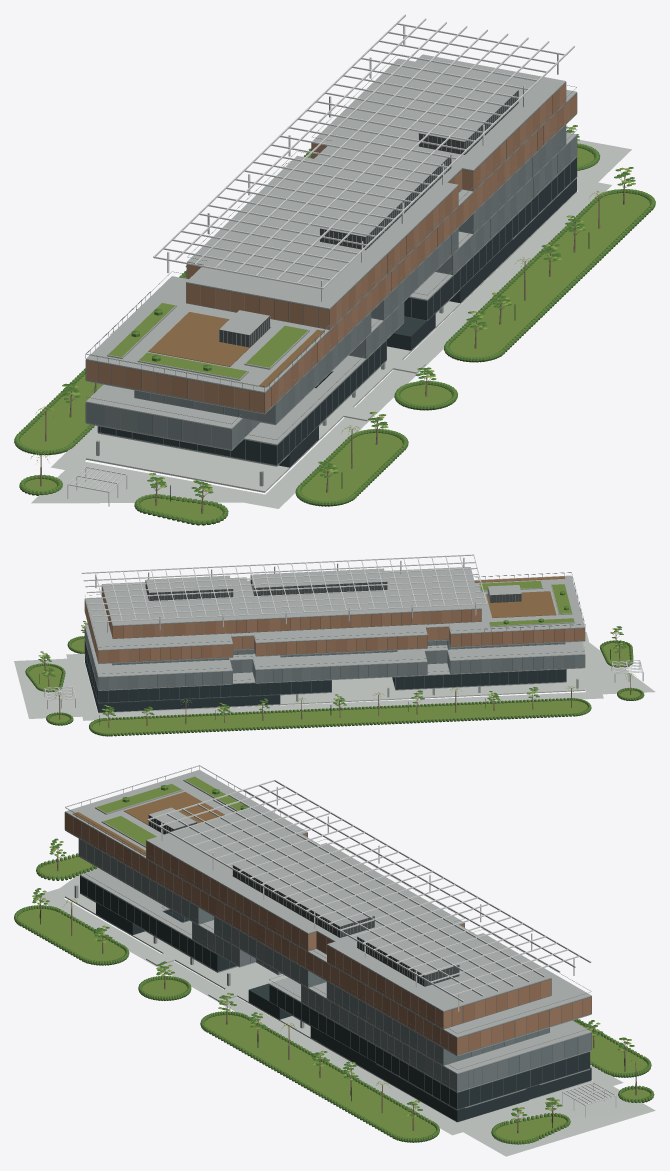
The model's file is incubator-lod2.glb.
3 views of the same model, one above another, from view 1: azimuth 30°, elevation 25°; view 2: azimuth 150°, elevation 25°; view 3: azimuth 270°, elevation 25° (orthographic). The views are drawn at different scales.
Visible parts, largest first — view 1: separate floor plates and setback terraces | roof.002, white open rooftop framework | ivory metal.002, connected planted lawns | lawn.002, site perimeter paving | pale paving.002, lower dark glazing | dark glass.002, slender curtain wall mullions | rail.002, continuous low hedges | hedge.002, open stilt floor paving | pale paving.002, upper bronze reflective panels | bronze glass 2.002, upper bronze reflective panels | bronze glass 1.002, middle silver glazing | silver glass 2.002, upper bronze reflective panels | bronze glass 0.002 (+12 smaller); view 2: separate floor plates and setback terraces | roof.002, white open rooftop framework | ivory metal.002, connected planted lawns | lawn.002, lower dark glazing | dark glass.002, slender curtain wall mullions | rail.002, site perimeter paving | pale paving.002, continuous low hedges | hedge.002, open stilt floor paving | pale paving.002, upper bronze reflective panels | bronze glass 2.002, upper bronze reflective panels | bronze glass 1.002, upper bronze reflective panels | bronze glass 0.002, internal drive and court paving | pale paving.002 (+12 smaller); view 3: separate floor plates and setback terraces | roof.002, white open rooftop framework | ivory metal.002, connected planted lawns | lawn.002, lower dark glazing | dark glass.002, slender curtain wall mullions | rail.002, site perimeter paving | pale paving.002, continuous low hedges | hedge.002, upper bronze reflective panels | bronze glass 2.002, upper bronze reflective panels | bronze glass 1.002, middle silver glazing | silver glass 2.002, upper bronze reflective panels | bronze glass 0.002, middle silver glazing | silver glass 0.002 (+12 smaller).
Part boxes in pixels (bbox=[...]): separate floor plates and setback terraces | roof.002: bbox=[86, 54, 576, 466]; white open rooftop framework | ivory metal.002: bbox=[67, 14, 574, 506]; connected planted lawns | lawn.002: bbox=[20, 147, 649, 521]; site perimeter paving | pale paving.002: bbox=[51, 178, 611, 508]; lower dark glazing | dark glass.002: bbox=[98, 157, 576, 467]; slender curtain wall mullions | rail.002: bbox=[85, 82, 577, 465]; continuous low hedges | hedge.002: bbox=[14, 143, 655, 525]; open stilt floor paving | pale paving.002: bbox=[86, 191, 576, 492]; upper bronze reflective panels | bronze glass 2.002: bbox=[86, 83, 570, 409]; upper bronze reflective panels | bronze glass 1.002: bbox=[99, 94, 576, 412]; middle silver glazing | silver glass 2.002: bbox=[104, 136, 576, 449]; upper bronze reflective panels | bronze glass 0.002: bbox=[127, 89, 563, 407]; separate floor plates and setback terraces | roof.002: bbox=[85, 567, 584, 703]; white open rooftop framework | ivory metal.002: bbox=[44, 554, 643, 708]; connected planted lawns | lawn.002: bbox=[29, 638, 640, 734]; lower dark glazing | dark glass.002: bbox=[85, 641, 566, 712]; slender curtain wall mullions | rail.002: bbox=[84, 587, 585, 702]; site perimeter paving | pale paving.002: bbox=[66, 632, 603, 720]; continuous low hedges | hedge.002: bbox=[25, 636, 644, 736]; open stilt floor paving | pale paving.002: bbox=[92, 668, 584, 713]; upper bronze reflective panels | bronze glass 2.002: bbox=[87, 587, 574, 662]; upper bronze reflective panels | bronze glass 1.002: bbox=[85, 590, 584, 663]; upper bronze reflective panels | bronze glass 0.002: bbox=[86, 594, 564, 662]; internal drive and court paving | pale paving.002: bbox=[14, 642, 655, 718]; separate floor plates and setback terraces | roof.002: bbox=[65, 769, 591, 1110]; white open rooftop framework | ivory metal.002: bbox=[147, 780, 616, 1117]; connected planted lawns | lawn.002: bbox=[17, 857, 650, 1140]; lower dark glazing | dark glass.002: bbox=[80, 876, 591, 1122]; slender curtain wall mullions | rail.002: bbox=[64, 812, 591, 1109]; site perimeter paving | pale paving.002: bbox=[35, 882, 623, 1135]; continuous low hedges | hedge.002: bbox=[14, 853, 654, 1144]; upper bronze reflective panels | bronze glass 2.002: bbox=[81, 822, 581, 1049]; upper bronze reflective panels | bronze glass 1.002: bbox=[65, 813, 591, 1054]; middle silver glazing | silver glass 2.002: bbox=[78, 839, 591, 1091]; upper bronze reflective panels | bronze glass 0.002: bbox=[73, 818, 549, 1051]; middle silver glazing | silver glass 0.002: bbox=[94, 848, 577, 1086].
Size of the model in its own units: 167 by 29.13 by 135.
